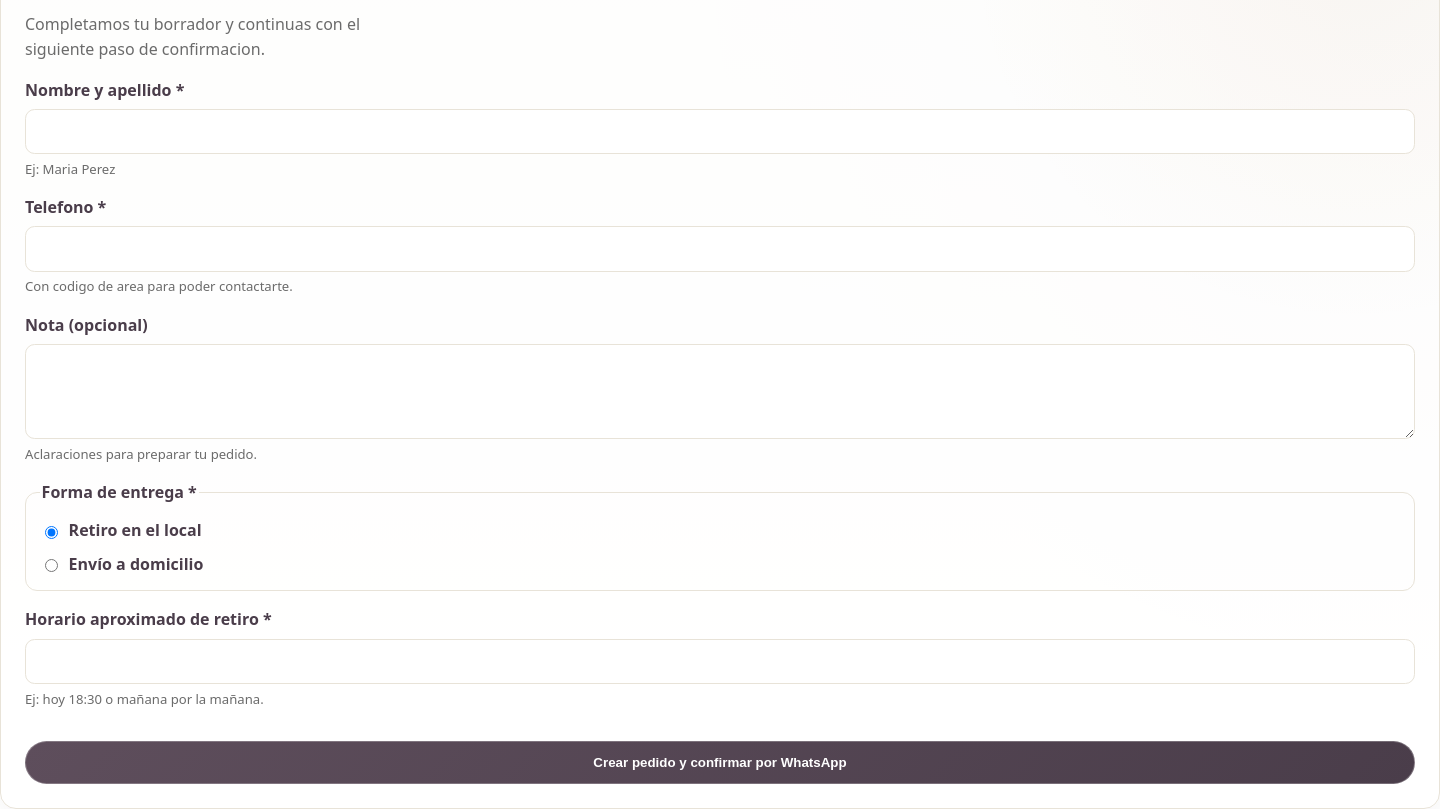
Scenario: CheckoutForm › blocks submit and shows inline validation when required fields are missing
(page scrolled)
Click the button "Crear pedido y confirmar por WhatsApp": (720, 762) x1=25 y1=741 x2=1415 y2=784
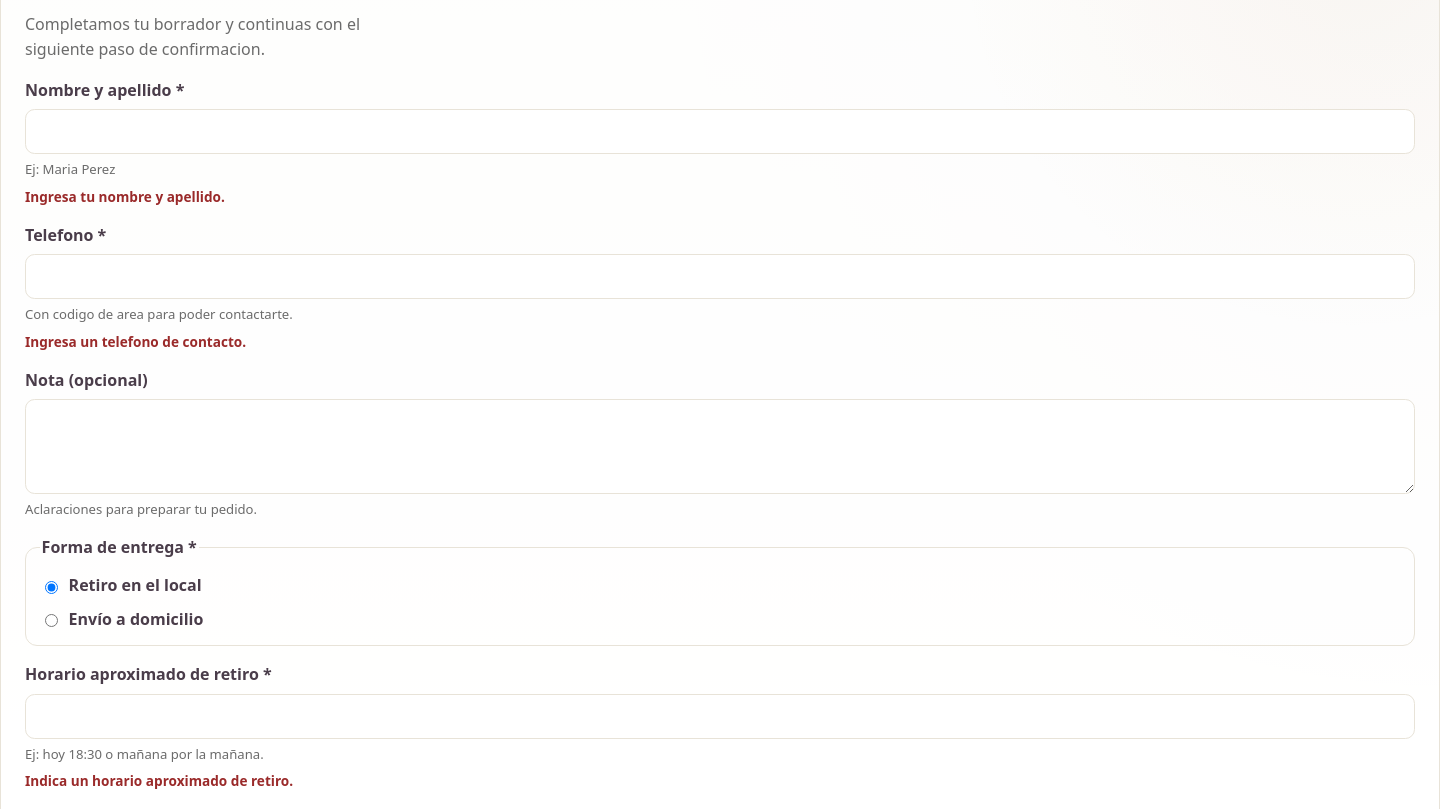
Check: the text "Ingresa tu nombre y apellido." is shown, box x1=25 y1=187 x2=225 y2=206
Check: the text "Ingresa un telefono de contacto." is shown, box x1=25 y1=332 x2=246 y2=351
Check: the text "Indica un horario aproximado de retiro." is shown, box x1=25 y1=771 x2=293 y2=790
